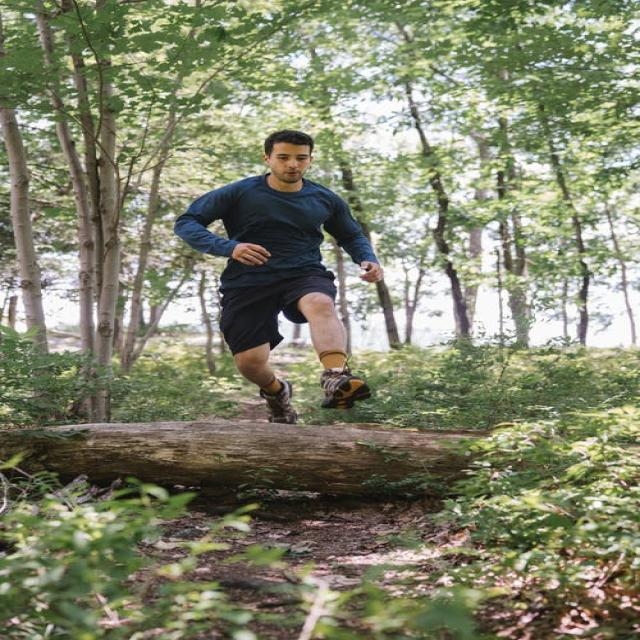running: (174, 128, 389, 427)
